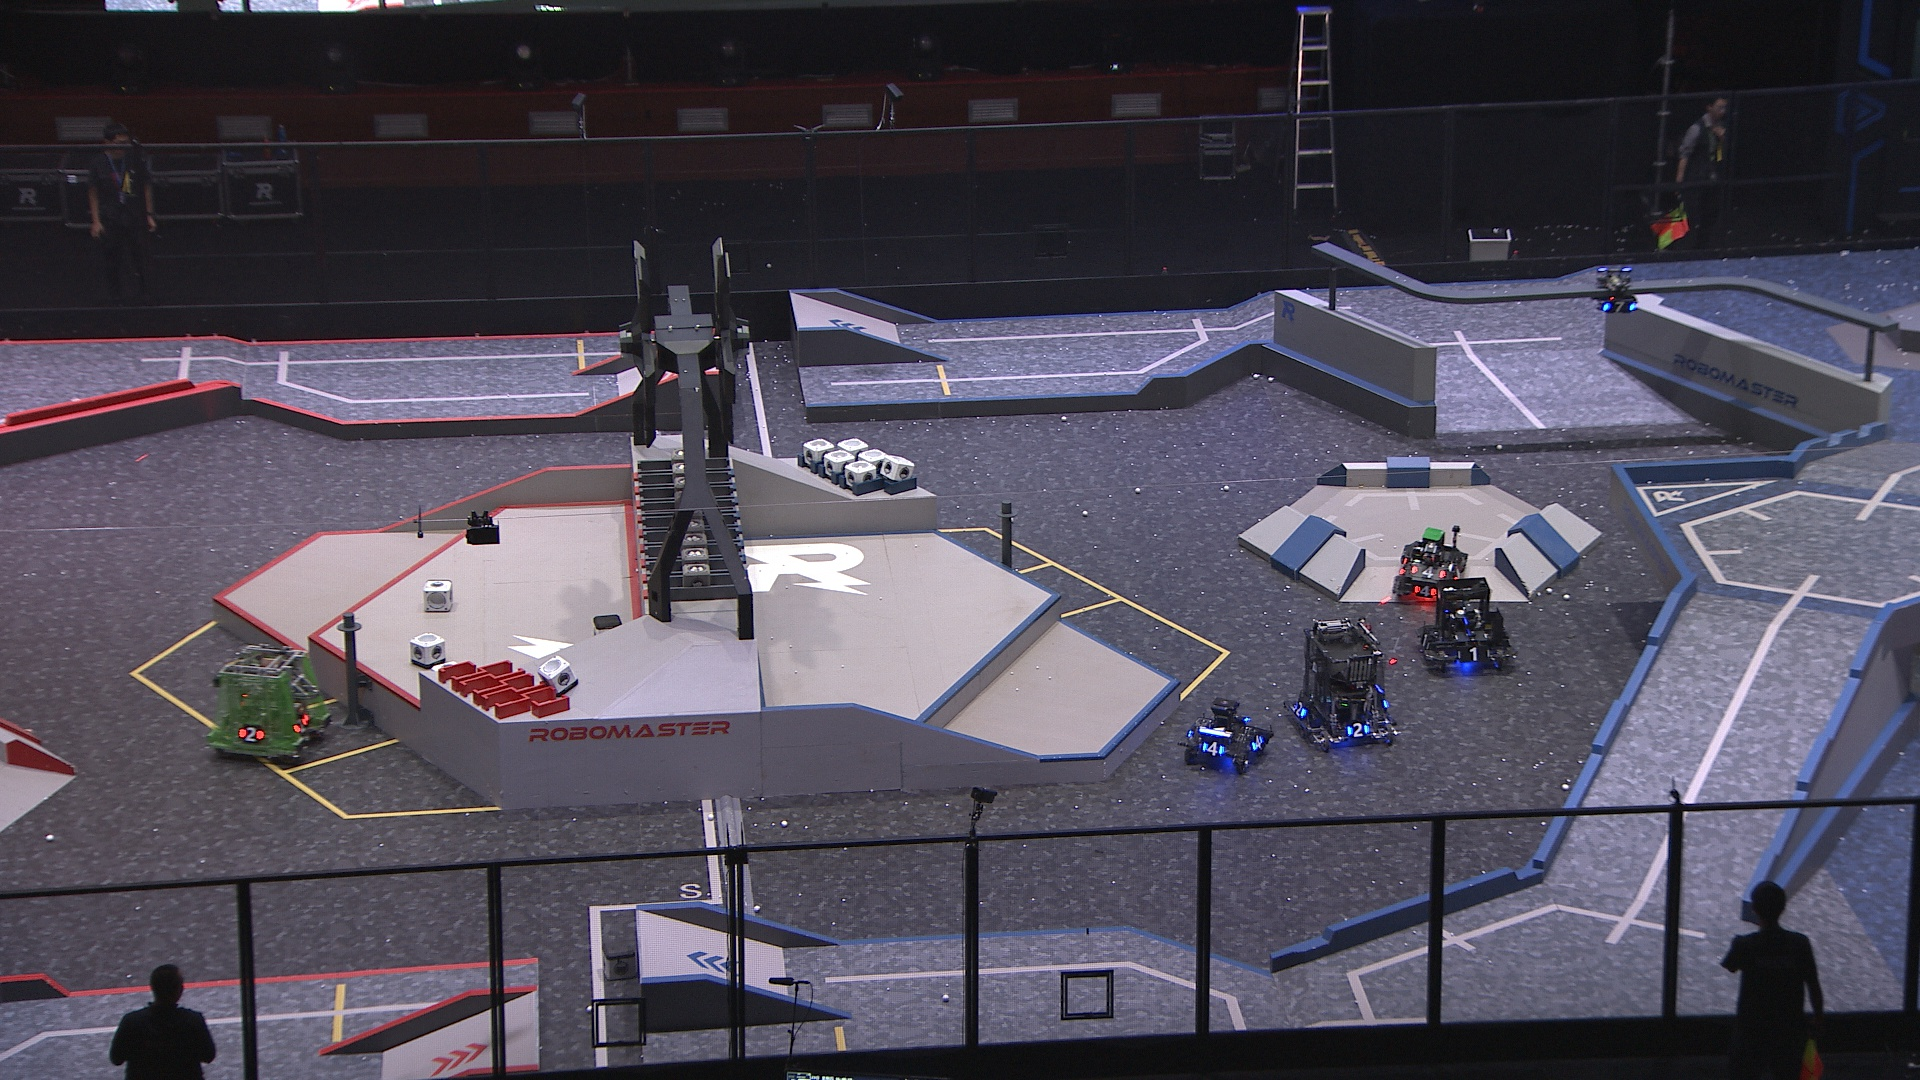armor: (237, 723, 266, 745), (1456, 647, 1493, 665), (1408, 564, 1448, 580), (1600, 301, 1636, 316), (1455, 629, 1490, 644), (1291, 700, 1309, 723), (1346, 723, 1371, 738), (1201, 741, 1226, 757), (291, 716, 311, 736), (1419, 632, 1433, 655), (1249, 735, 1266, 754), (1414, 584, 1439, 597)
car: (1284, 618, 1400, 752), (208, 641, 335, 761), (1418, 576, 1519, 678), (1172, 698, 1280, 773), (1391, 522, 1470, 604)
watcher: (1593, 266, 1640, 316)
